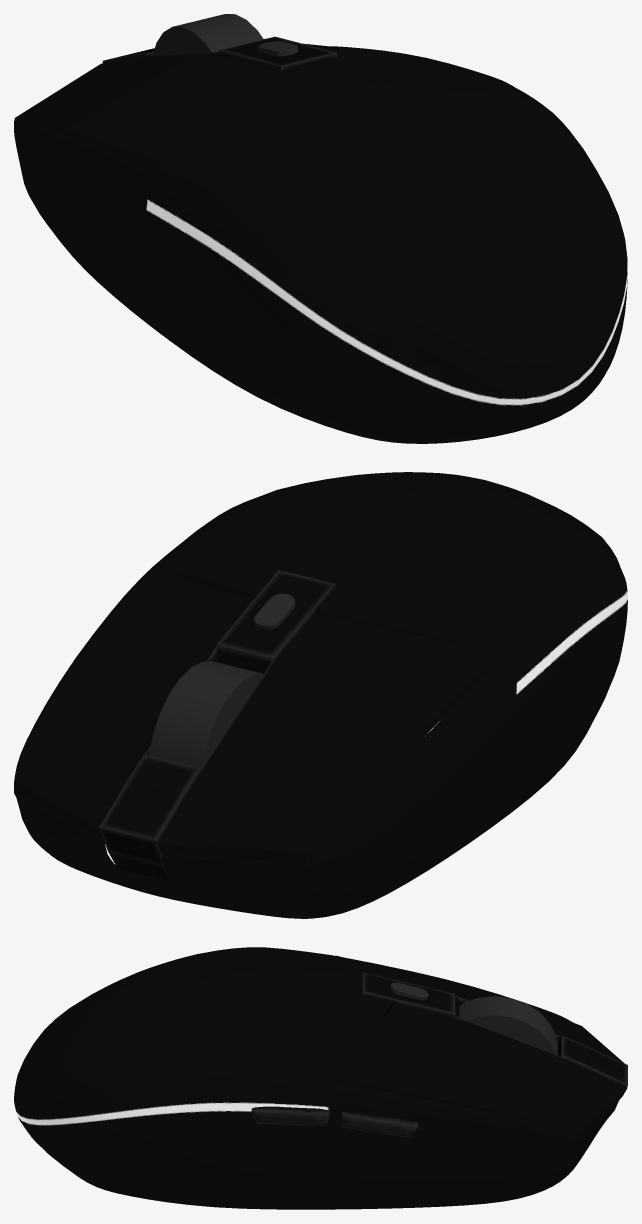
Rendered from mouse-logitech-g102.glb.
3 renders of one model, top to bottom at view 1: azimuth 30°, elevation 25°; view 2: azimuth 150°, elevation 25°; view 3: azimuth 270°, elevation 25°, orthographic. The views are drawn at different scales.
Visible parts, largest first — view 1: body; view 2: body; view 3: body.
Boxes of the visible parts, x1=… form: body: x1=14, y1=14, x2=627, y2=443; body: x1=14, y1=472, x2=627, y2=918; body: x1=14, y1=947, x2=627, y2=1209.
Size of the model in its own units: 0.0622 by 0.0382 by 0.1166.
Materials: 3 (2 with a texture image).
